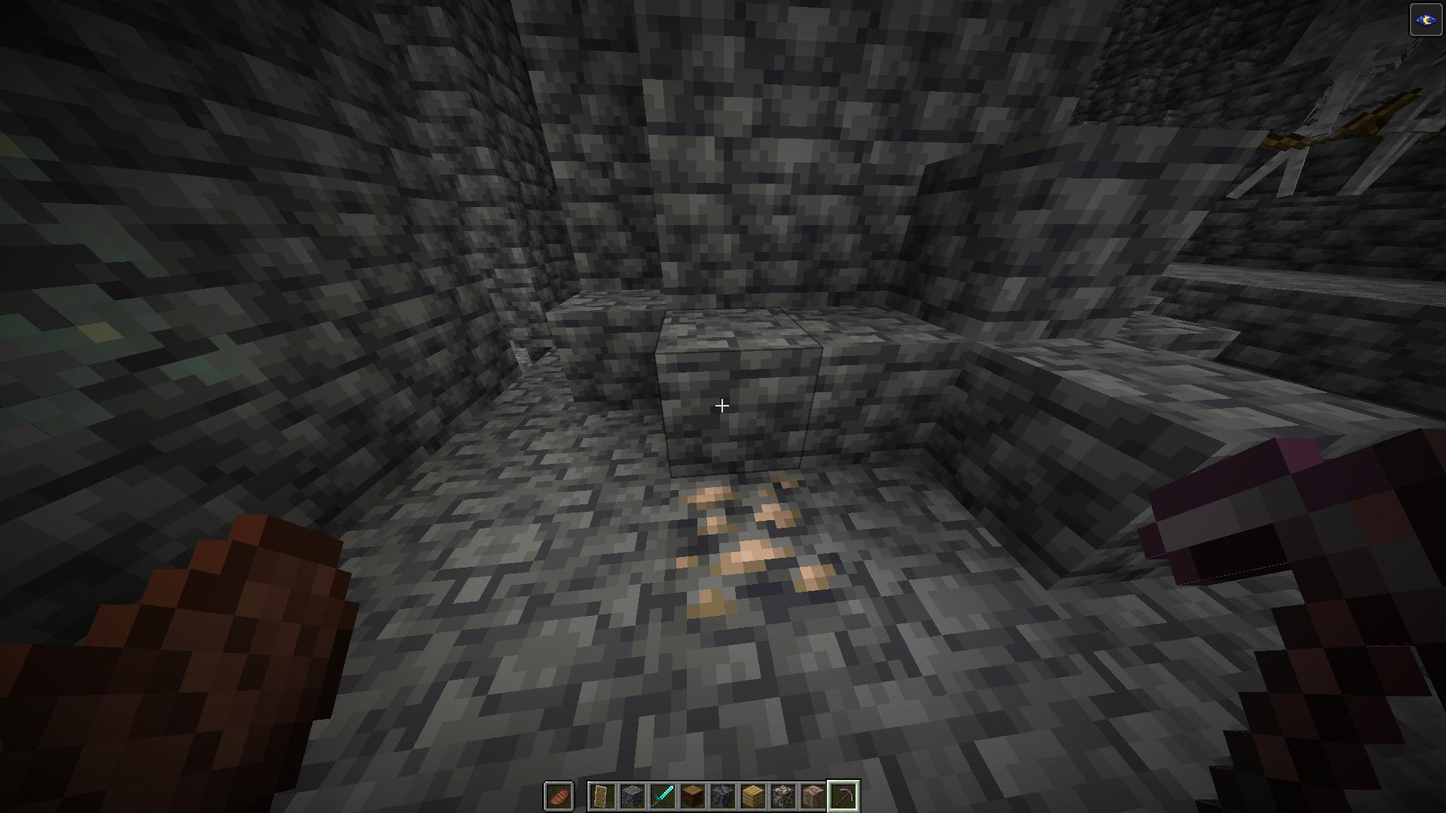iron ore: (674, 472, 842, 620)
